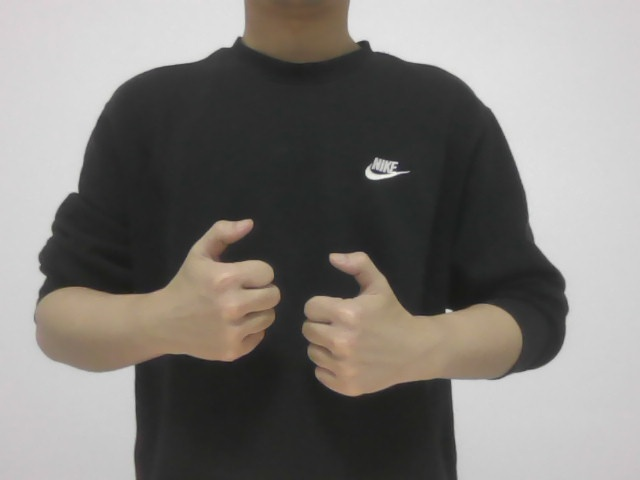marry/wife: (137, 201, 422, 403)
